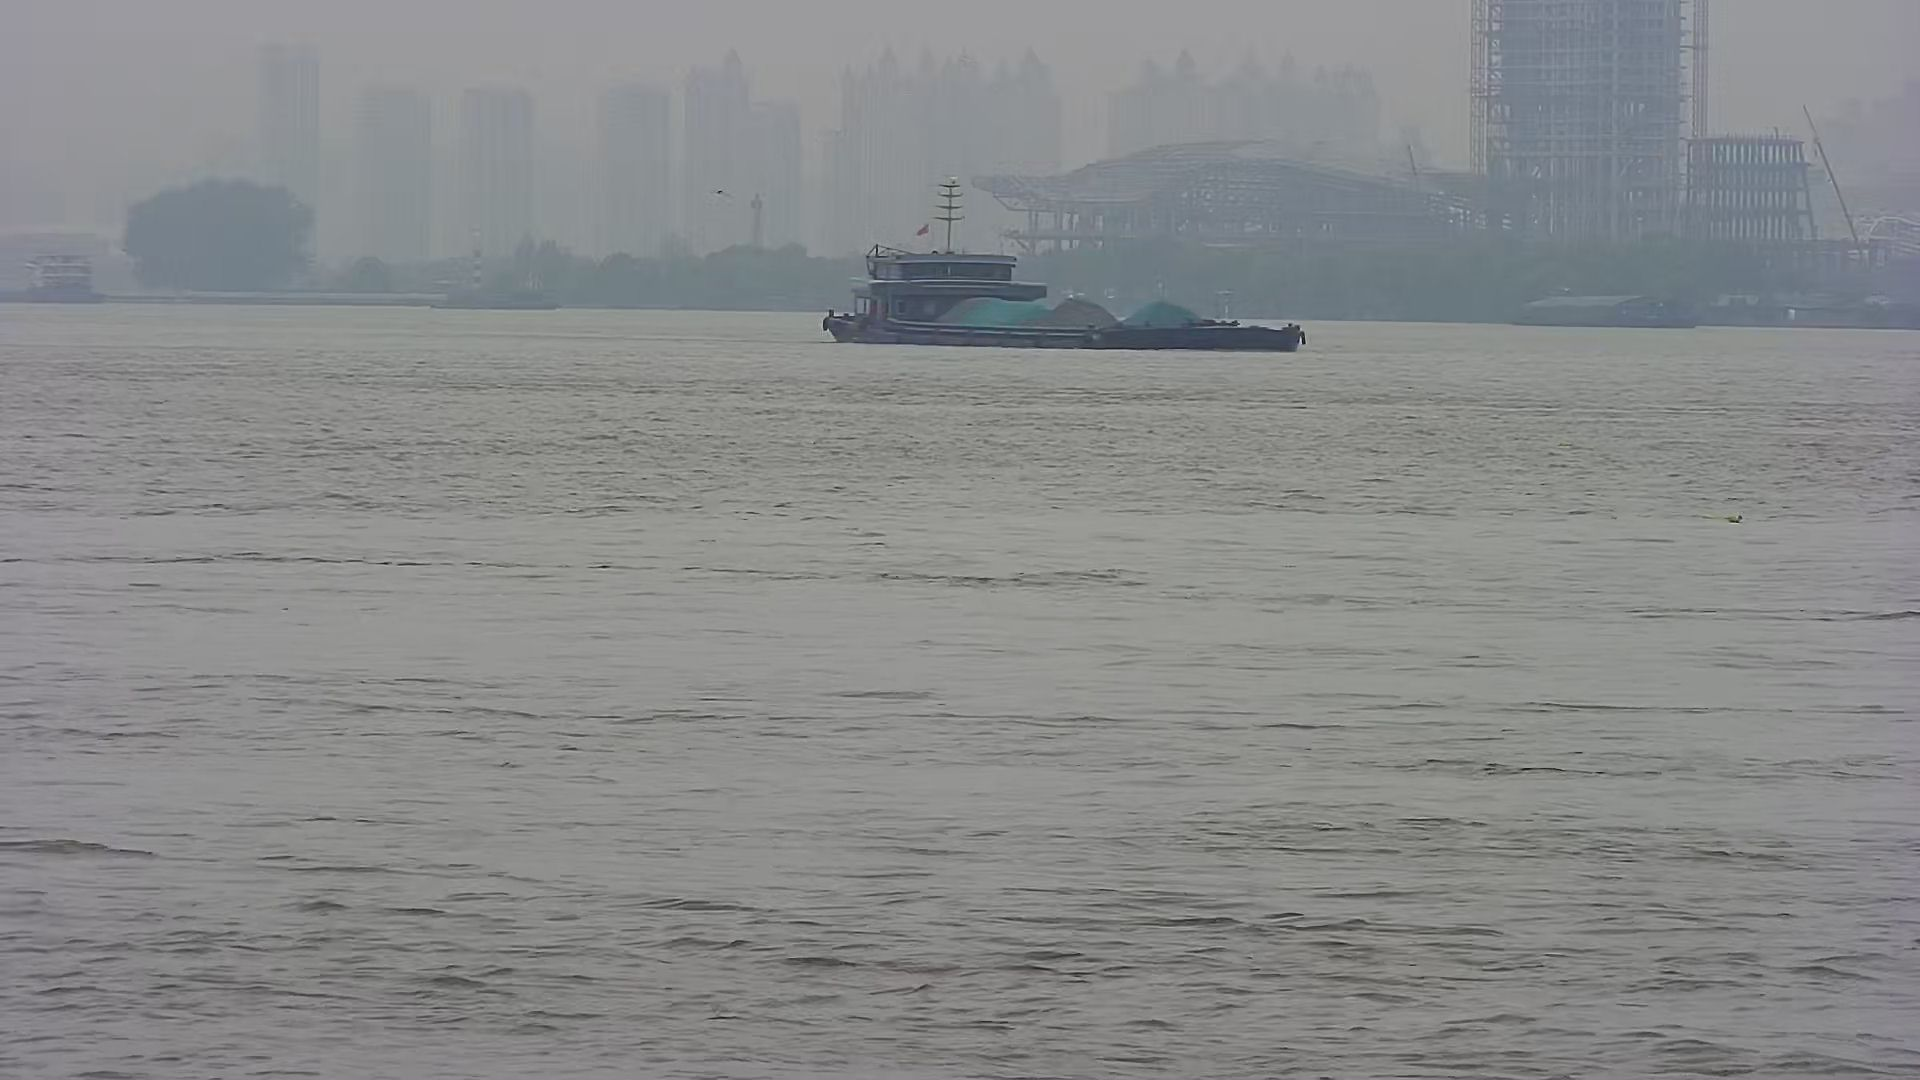ship: (804, 228, 1321, 360), (1494, 280, 1713, 339), (415, 284, 578, 318)
